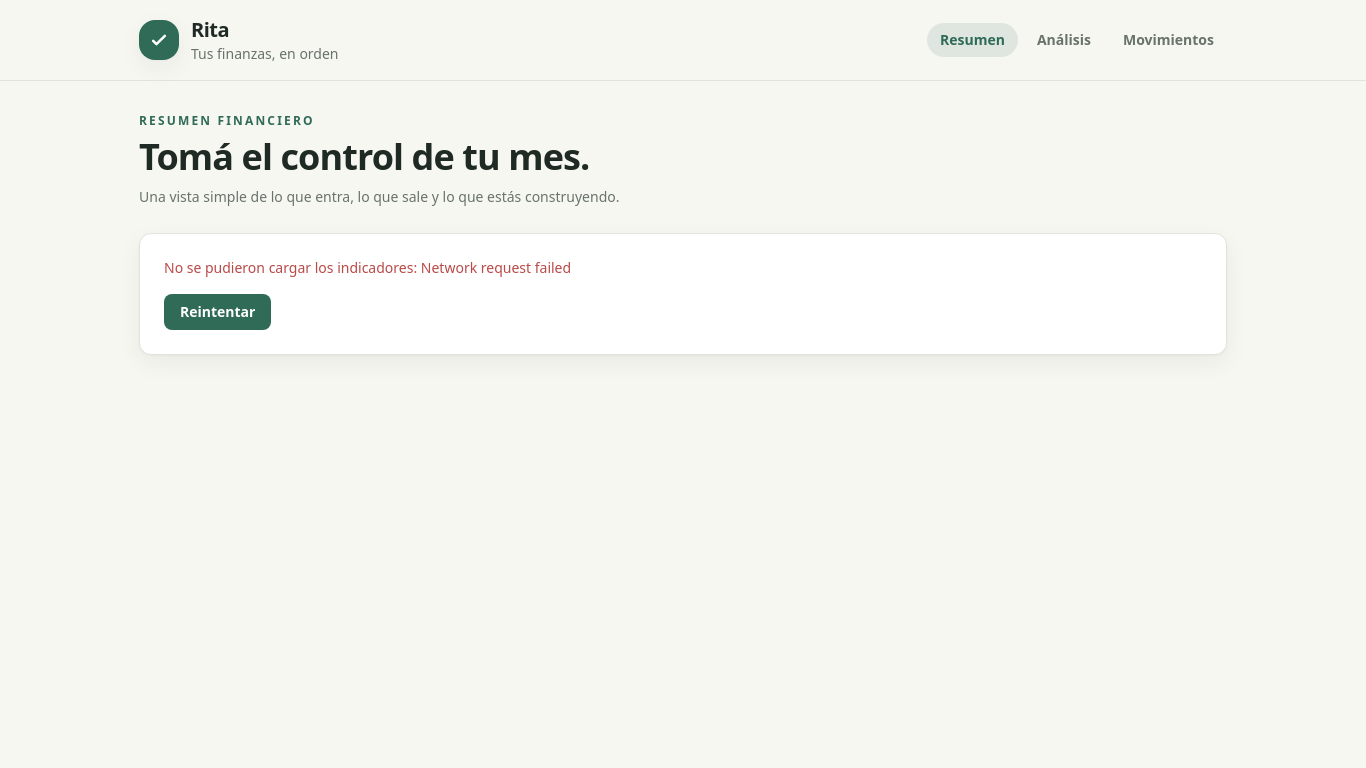
Test case: App › shows a Spanish error with retry for the summary and recovers
This screenshot has width=1366, height=768.
Expected: the message shows "No se pudieron cargar los indicadores", [164, 258, 421, 277]
Click the button "Reintentar" at (218, 312), box [164, 294, 271, 330]
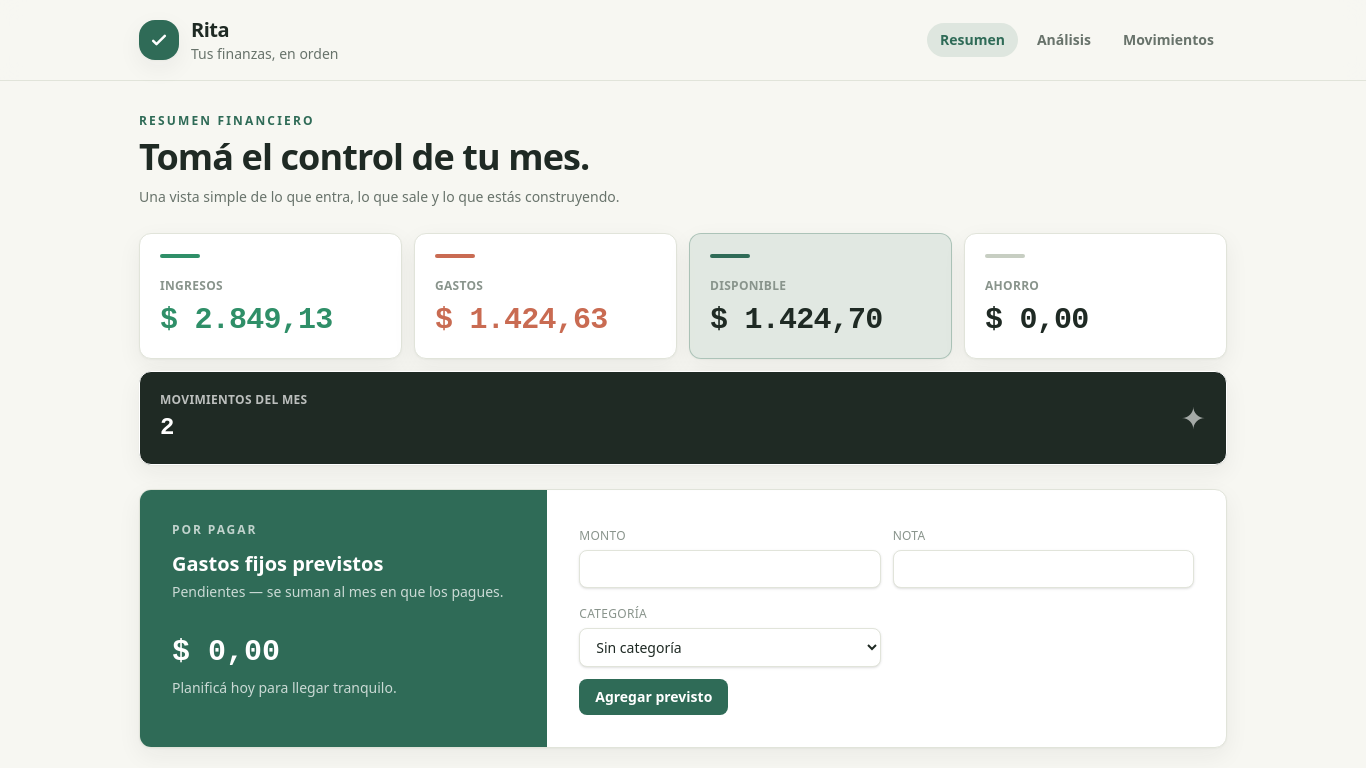
Expected: the heading "Ingresos" is shown, [160, 277, 223, 294]
